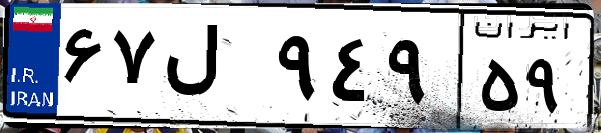4: (330, 28, 385, 110)
5: (475, 38, 525, 113)
6: (57, 26, 110, 100)
7: (110, 28, 158, 98)
9: (270, 28, 330, 110), (385, 28, 445, 110), (525, 38, 570, 115)
ل: (158, 20, 270, 120)
